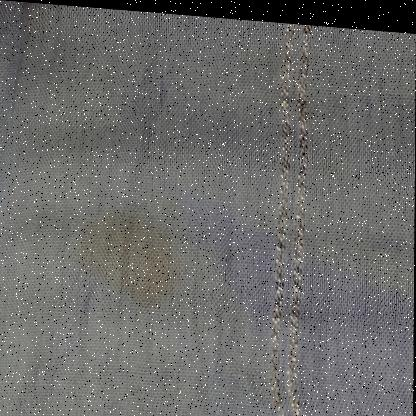spot: (66, 211, 175, 282), (119, 264, 177, 310)
